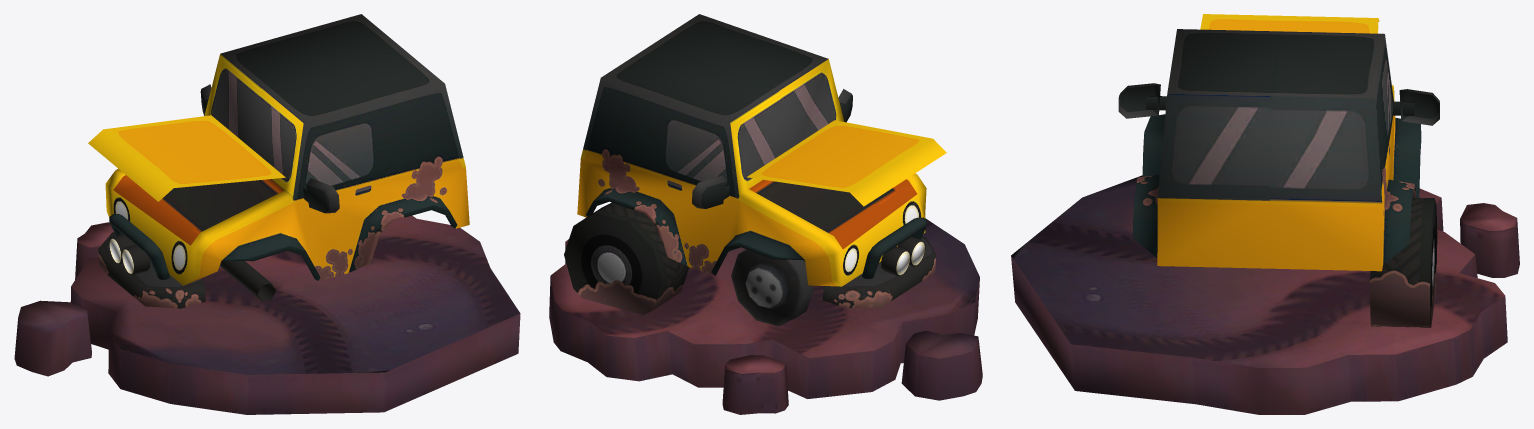
The model's file is BloodyPuddlesOdysseyStatue.fbx.
The picture shows the model from 3 angles, left to right: view 1: azimuth 30°, elevation 25°; view 2: azimuth 150°, elevation 25°; view 3: azimuth 270°, elevation 25°; orthographic projection. The views are drawn at different scales.
Parts seen in each view (by area): view 1: Jeep, Mud; view 2: Jeep, Mud; view 3: Jeep, Mud.
Boxes of the visible parts, bbox=[...] form: Jeep: bbox=[88, 14, 469, 308]; Mud: bbox=[14, 215, 520, 414]; Jeep: bbox=[564, 14, 946, 326]; Mud: bbox=[549, 218, 982, 414]; Jeep: bbox=[1118, 14, 1439, 327]; Mud: bbox=[1011, 175, 1519, 414].
Bounding box in the file's own units: 25.48 × 13.98 × 23.07.
